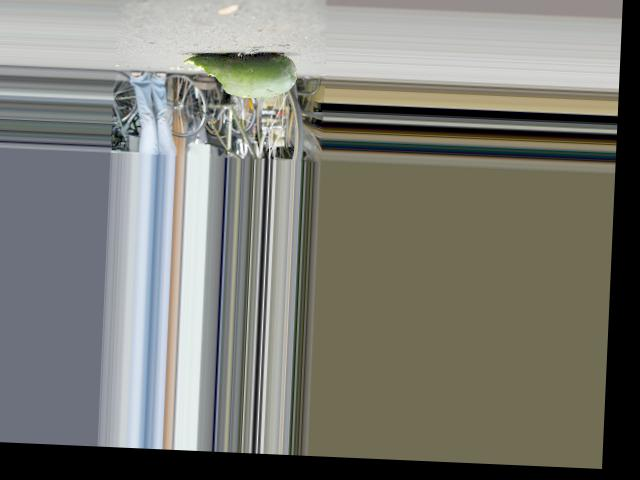cucumber: (180, 50, 297, 99)
